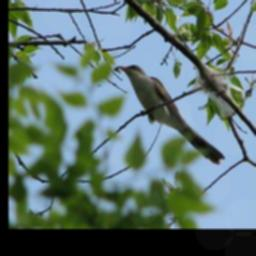Cuckoo: (117, 62, 226, 161)
